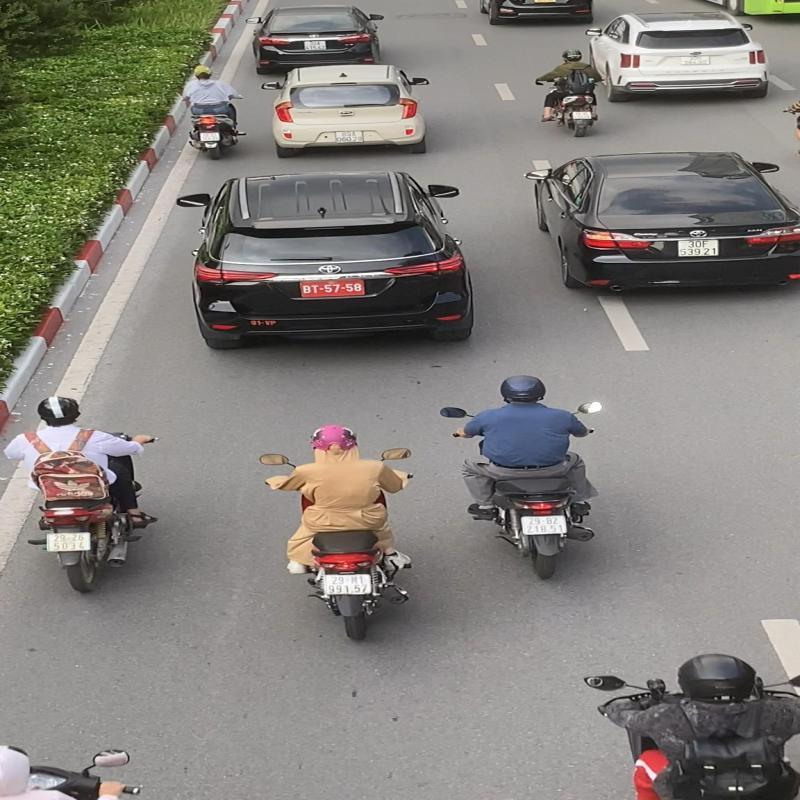helmet: (674, 650, 762, 703), (311, 424, 356, 451), (36, 395, 78, 421), (502, 376, 544, 400)
licenseplate: (323, 575, 371, 594), (523, 516, 567, 534), (48, 534, 91, 551)
motorcyclist: (258, 422, 435, 640), (438, 372, 613, 580), (0, 394, 169, 596)
